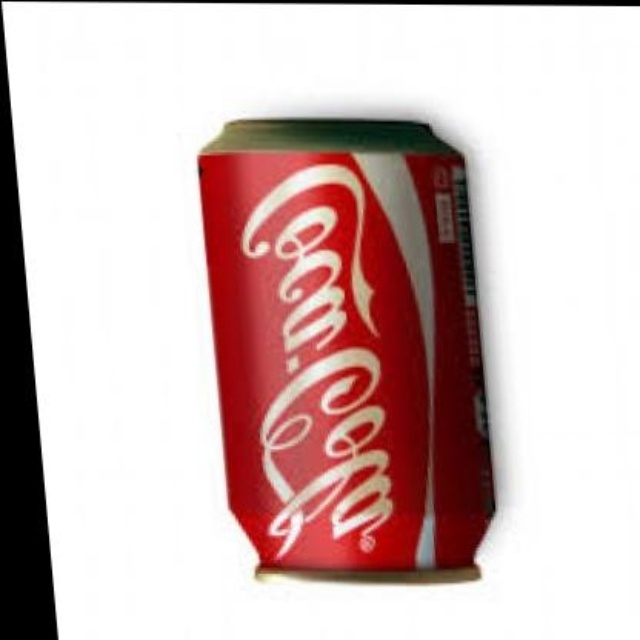trash: (198, 120, 492, 575)
